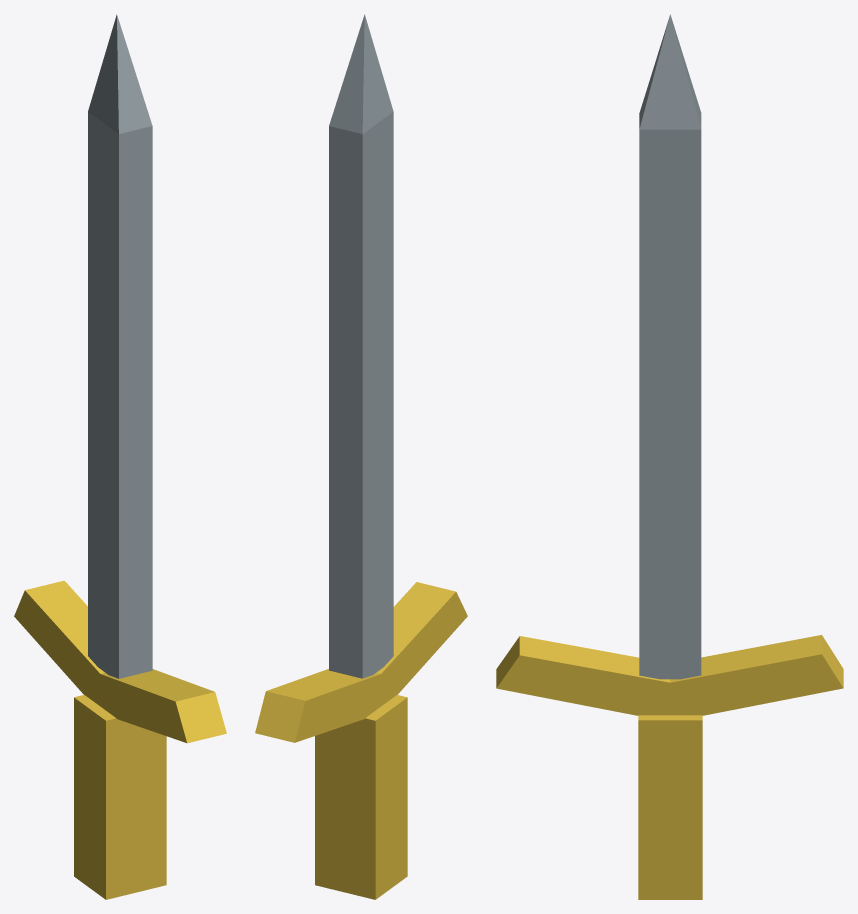
File: Sword.fbx
3 renders of one model, left to right at view 1: azimuth 30°, elevation 25°; view 2: azimuth 150°, elevation 25°; view 3: azimuth 270°, elevation 25°, orthographic.
Parts seen in each view (by area): view 1: Blade, Handle, Hilt; view 2: Blade, Handle, Hilt; view 3: Blade, Hilt, Handle.
Part boxes in pixels (box(x1,y1,x2,y2)): Blade: box(88, 14, 152, 678); Handle: box(74, 695, 166, 899); Hilt: box(14, 580, 226, 743); Blade: box(329, 14, 393, 678); Handle: box(315, 695, 407, 899); Hilt: box(255, 582, 467, 742); Blade: box(639, 14, 701, 679); Hilt: box(496, 635, 843, 715); Handle: box(638, 715, 702, 899).
Size of the model in its own units: 43.2 by 591 by 214.
